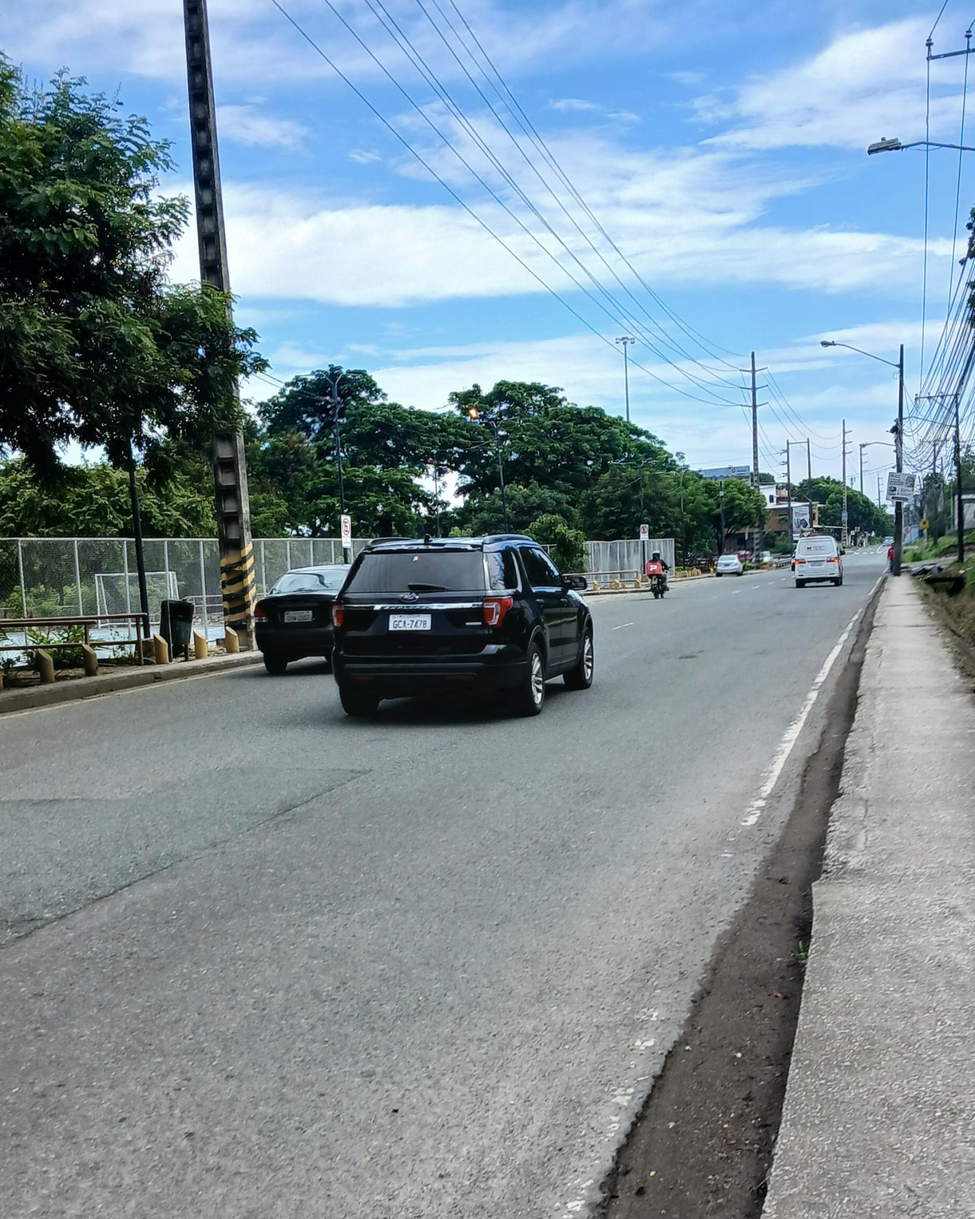license_plate: (386, 615, 431, 630), (284, 610, 312, 622), (806, 561, 824, 568)
